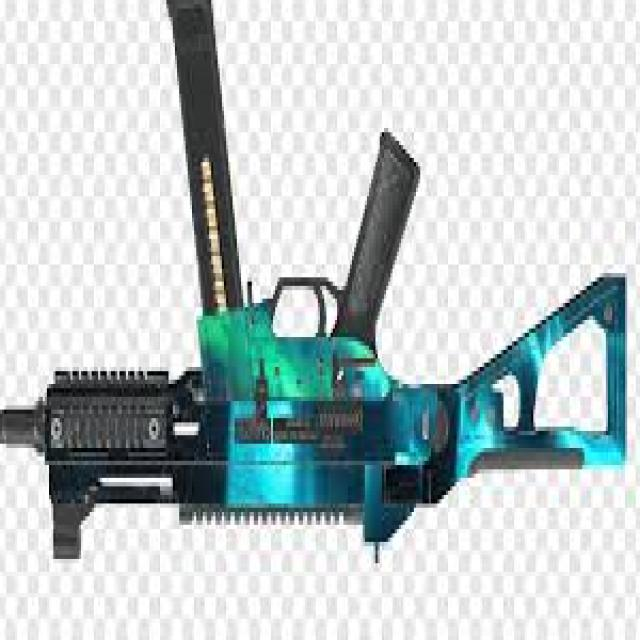Gun: (0, 0, 631, 568)
